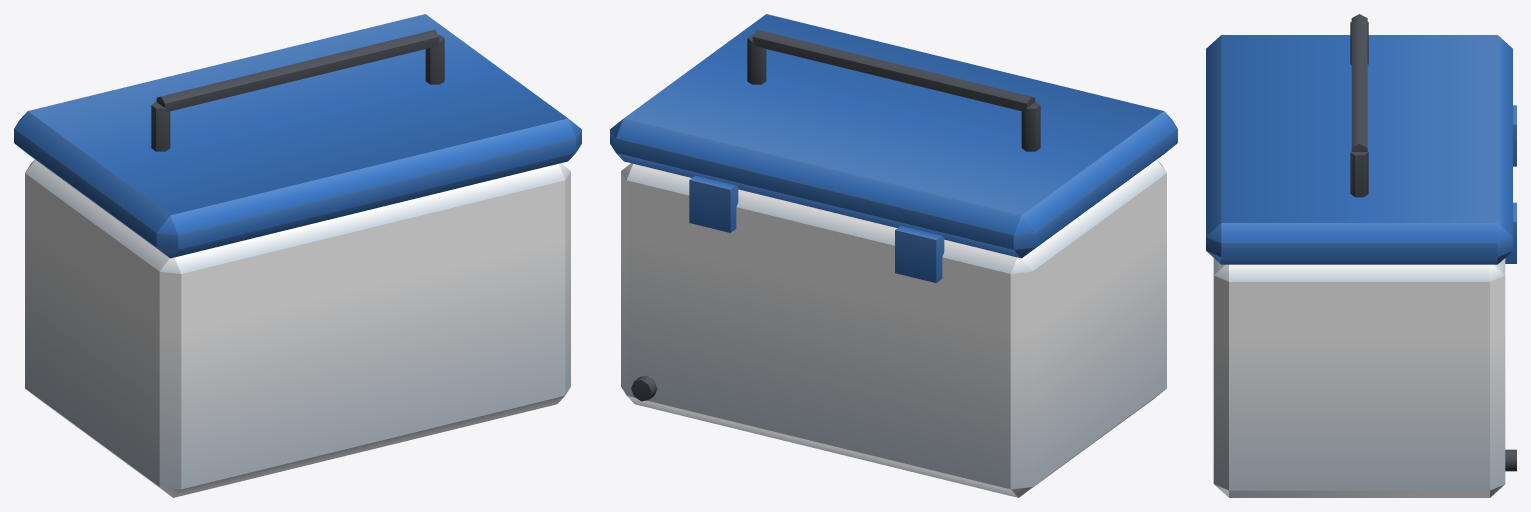
File: ck_cooler.fbx
3 views of the same model, side by side, from view 1: azimuth 30°, elevation 25°; view 2: azimuth 150°, elevation 25°; view 3: azimuth 270°, elevation 25° (orthographic). The views are drawn at different scales.
Parts seen in each view (by area): view 1: ck_cooler; view 2: ck_cooler; view 3: ck_cooler.
Boxes of the visible parts, box(x1,y1,x2,y2) form: ck_cooler: box(14, 14, 581, 497); ck_cooler: box(610, 14, 1177, 497); ck_cooler: box(1206, 14, 1516, 497).
Size of the model in its own units: 200 by 152 by 131.
